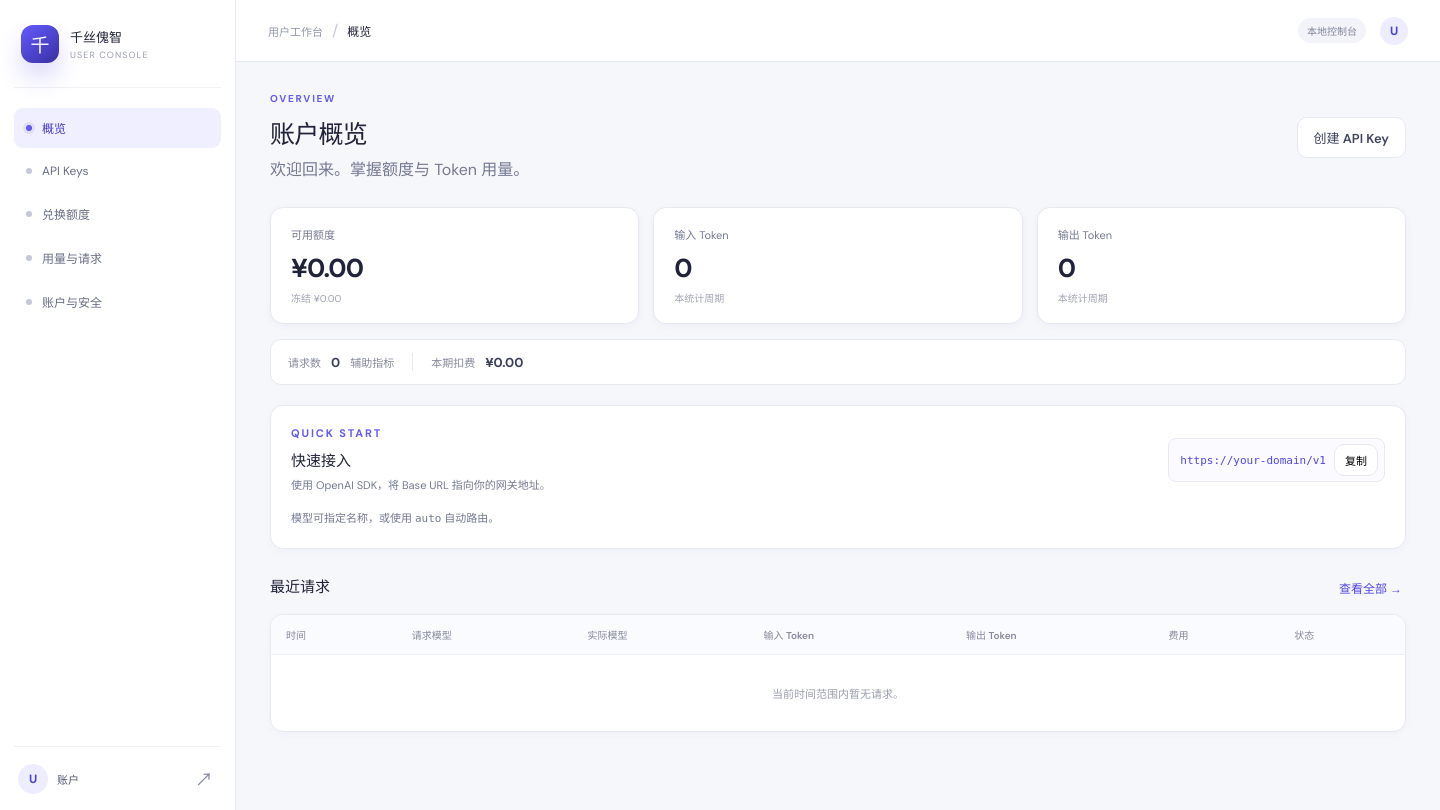
Test: user console › shows the one-time API Key secret only on the creation page
This screenshot has width=1440, height=810.
Expected: the heading "账户概览" is shown, [270,118,367,151]
Click the button "API Keys" at [118, 171], box [14,152,221,190]
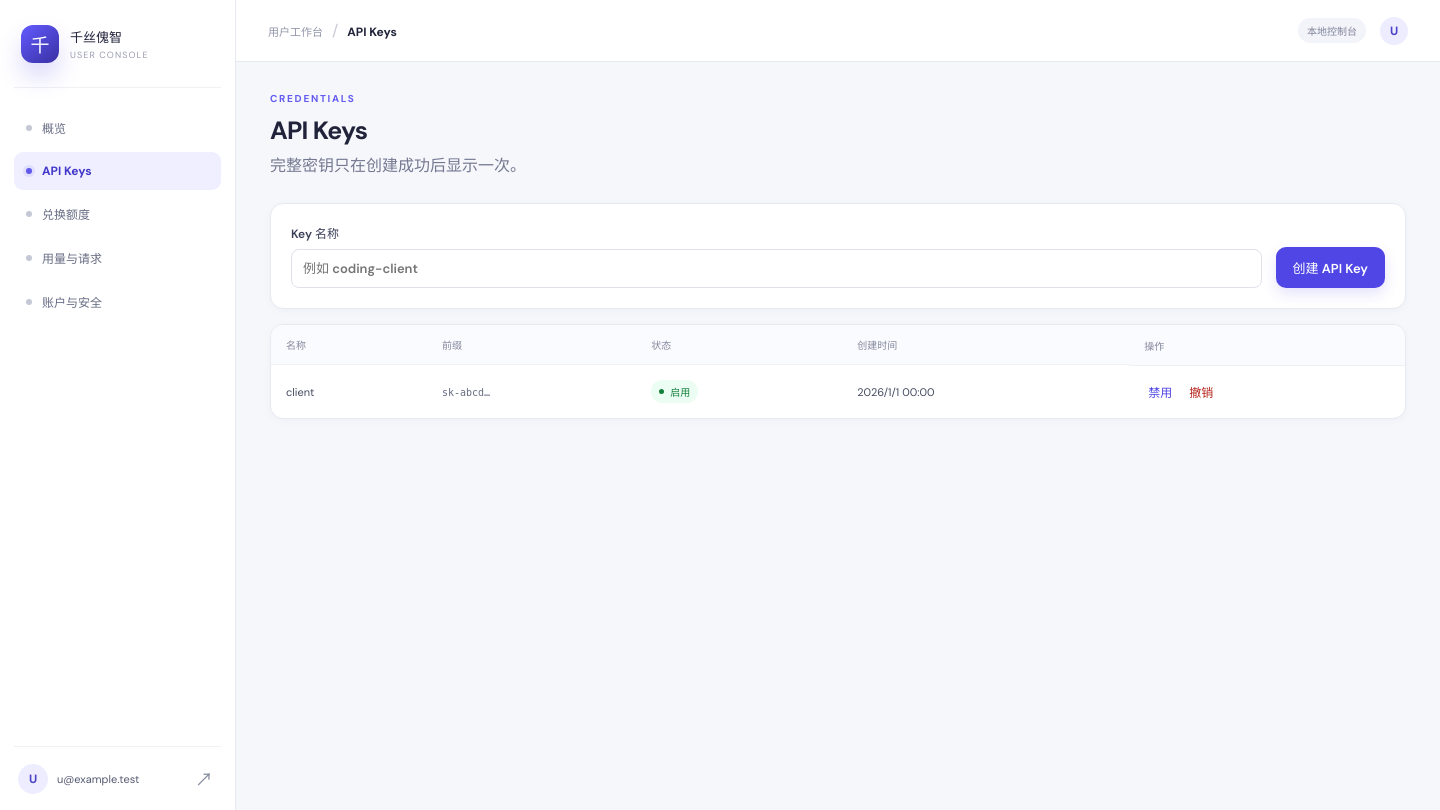
Type "client" into the field labelled "Key 名称" at [776, 269], box [291,249,1262,288]
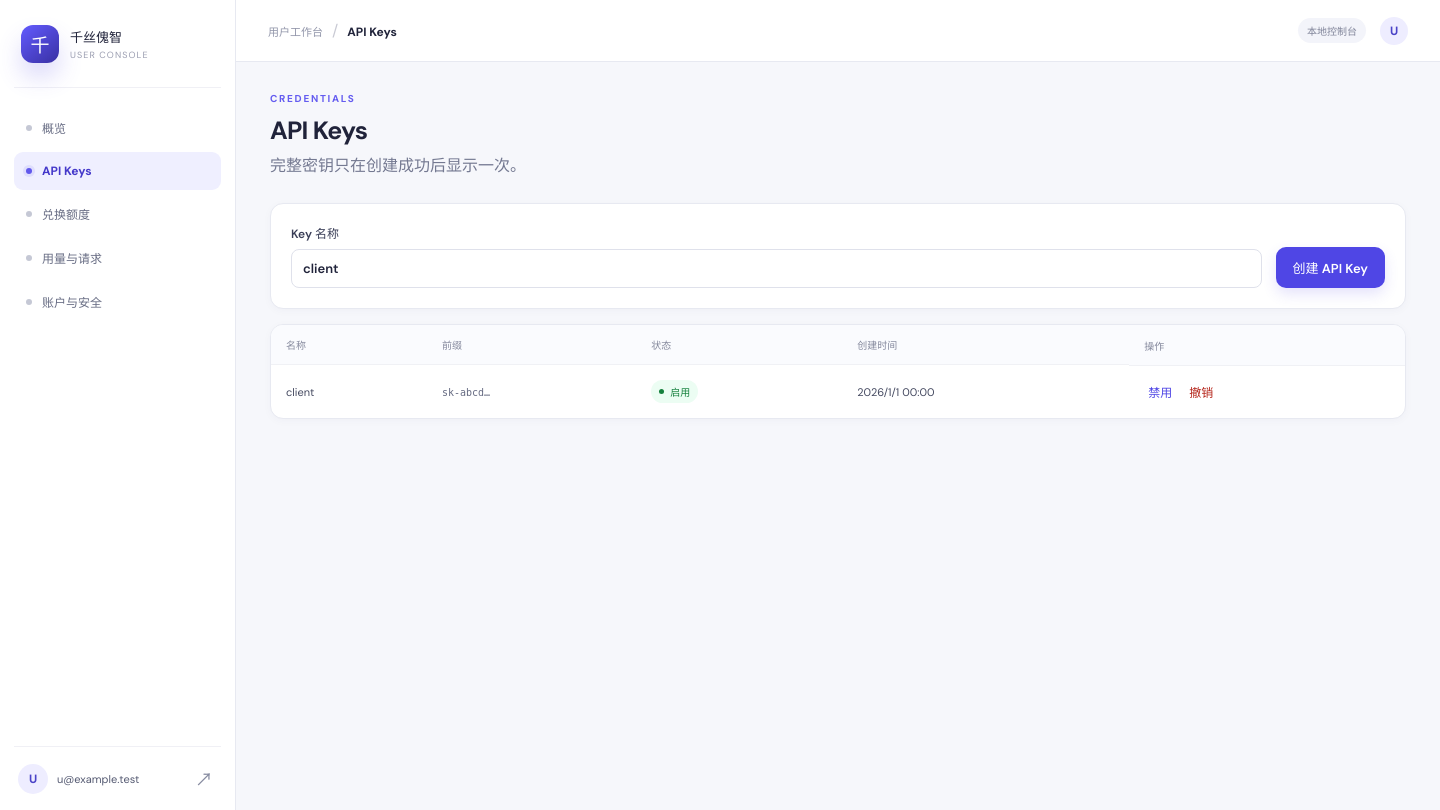
Click the button "创建 API Key" at [1330, 268], box [1276,247,1385,288]
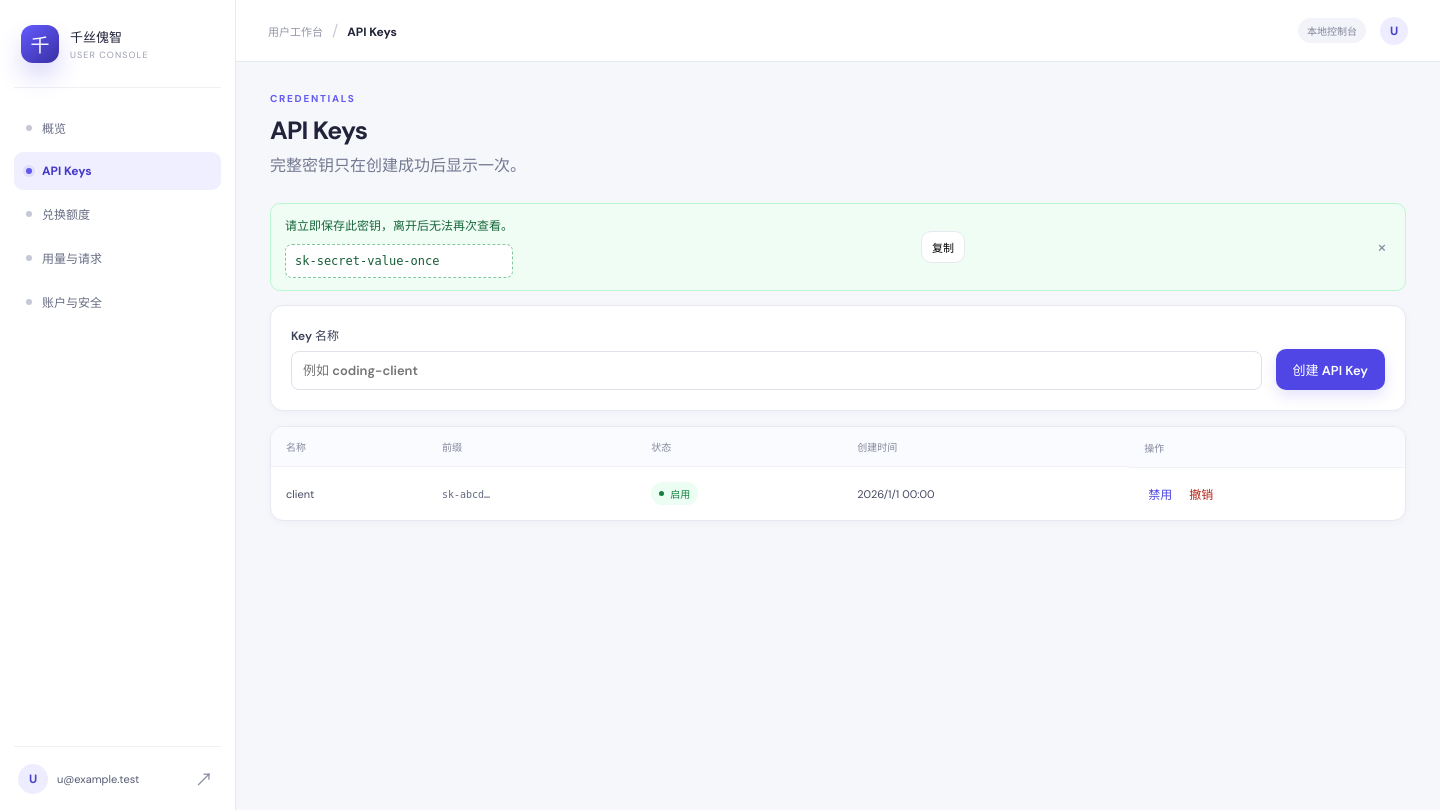
Now the text "sk-secret-value-once" is shown, box [285,244,513,278]
// Leaving the creation page drops the plaintext for good.
Click the button "概览" at [118, 128], box [14,108,221,148]
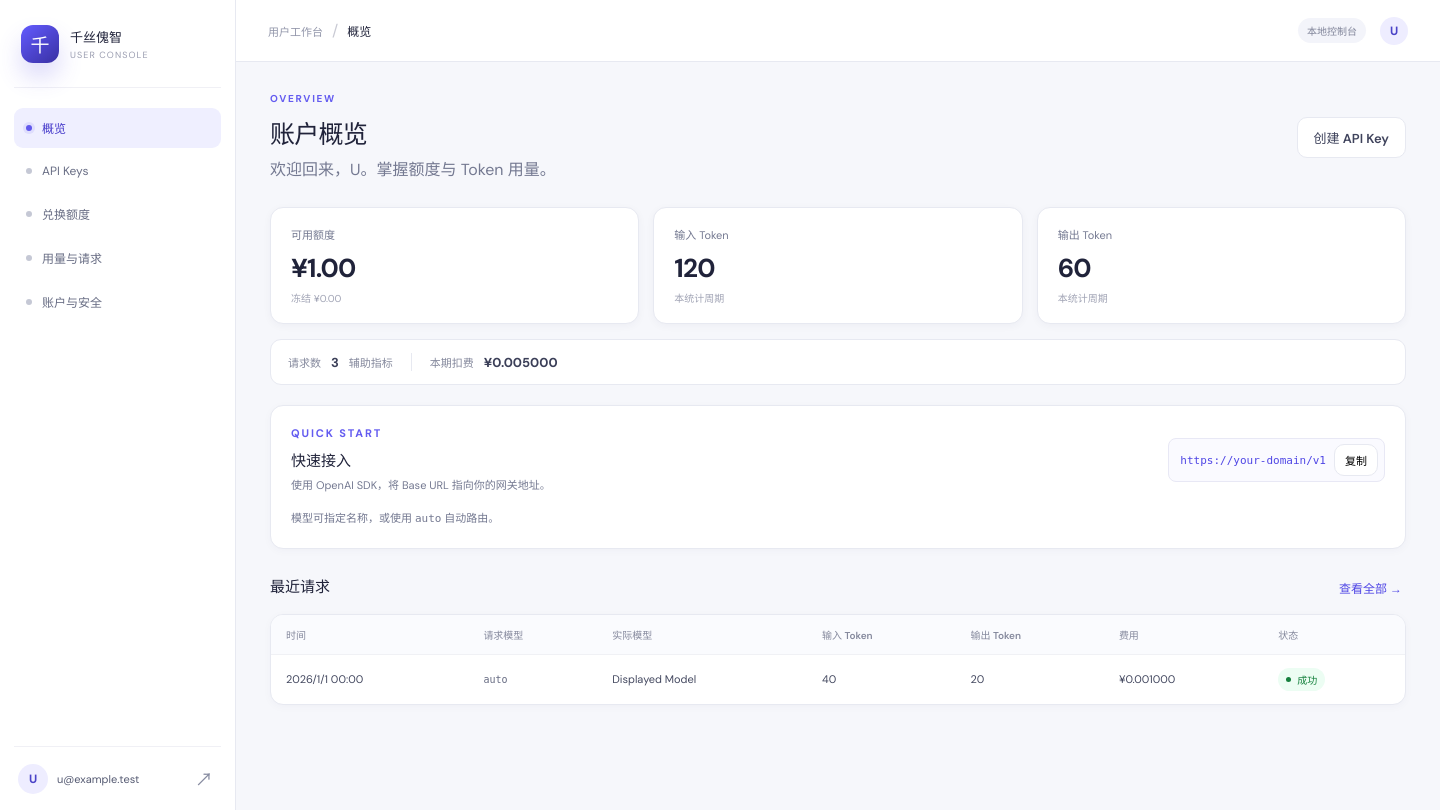
Now the heading "账户概览" is shown, box [270,118,367,151]
Now the text "sk-secret-value-once" is gone
Click the button "API Keys" at [118, 171], box [14,152,221,190]
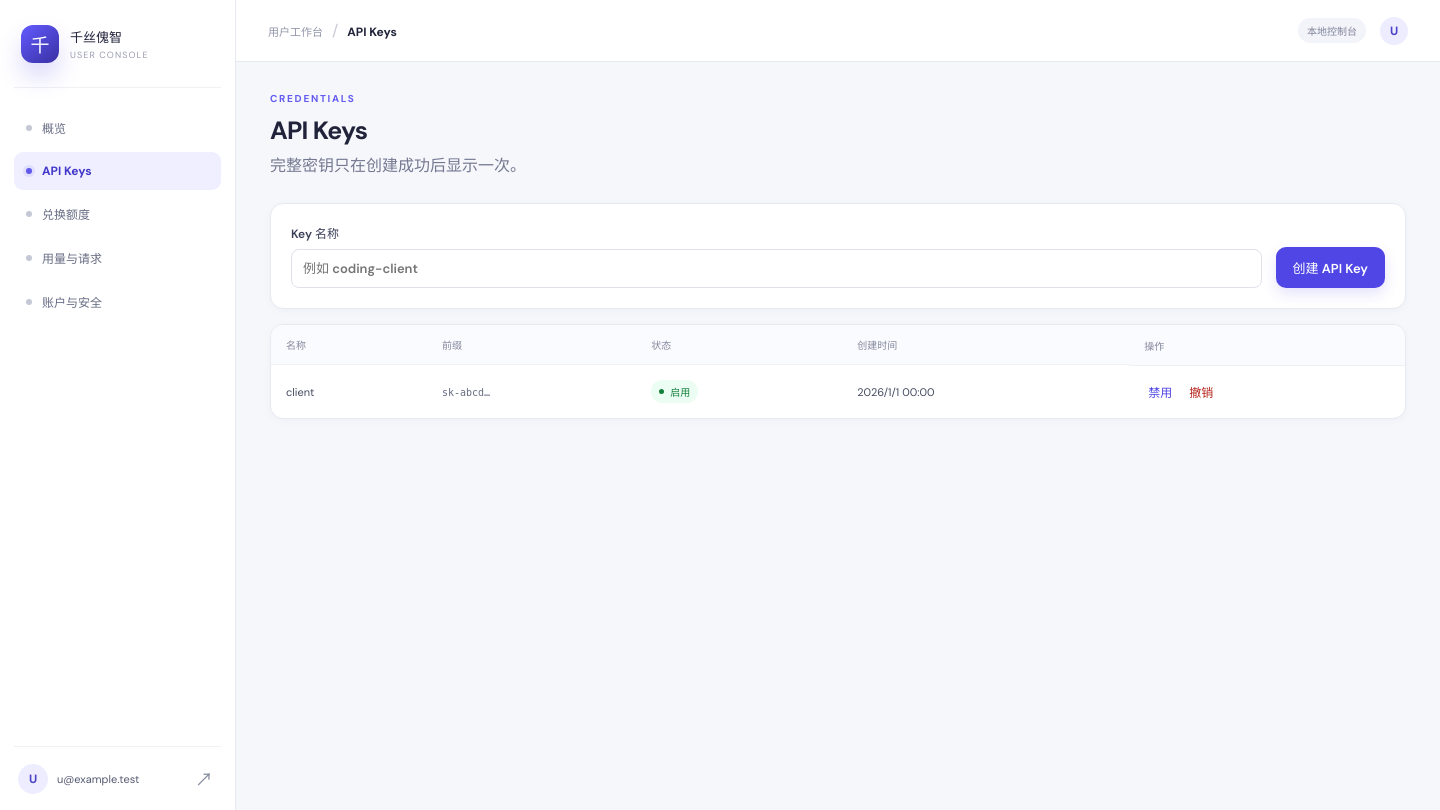
Expected: the text "sk-secret-value-once" is not shown
Now the text "sk-abcd…" is shown, box [442,387,490,398]
